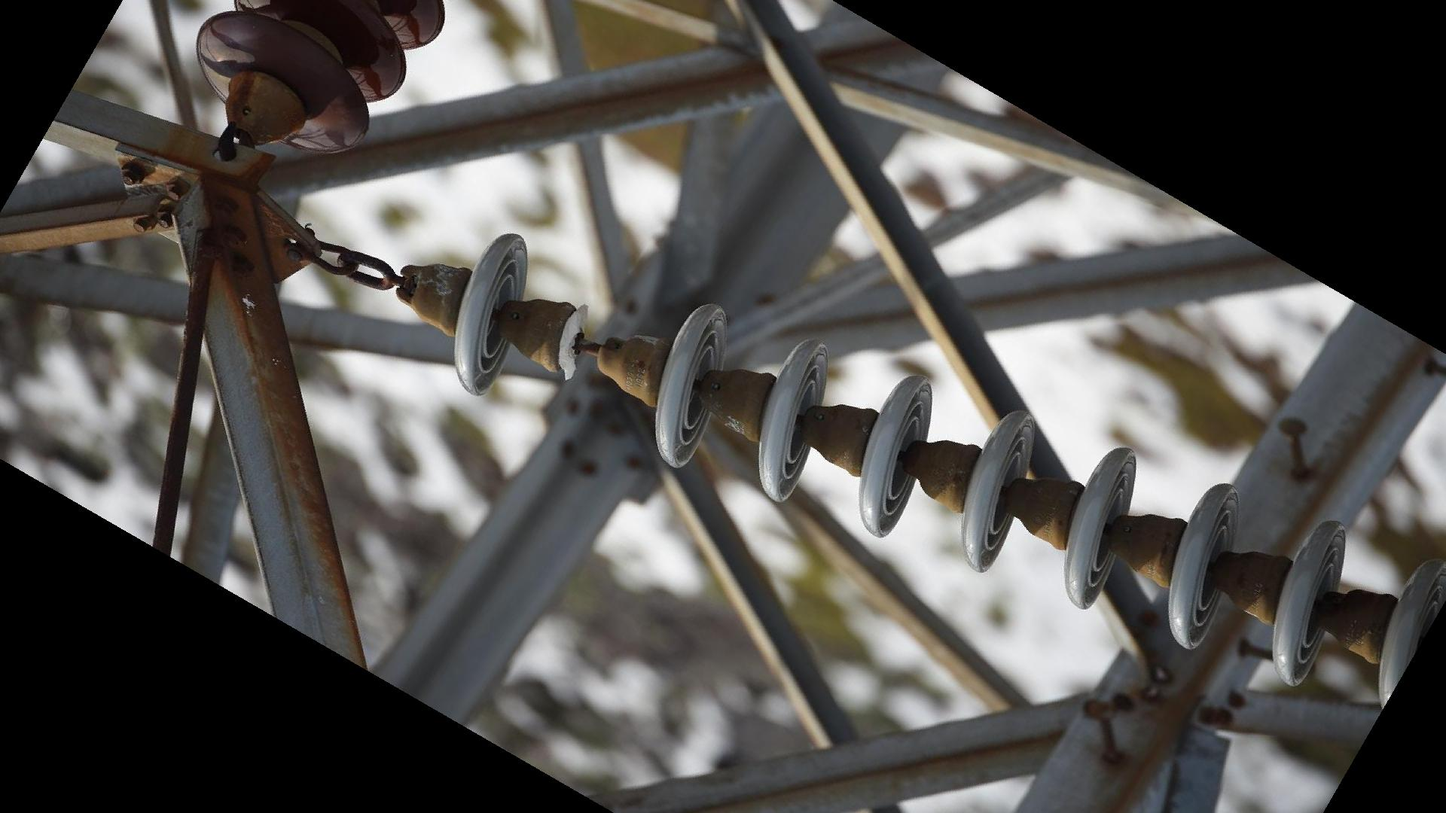insulator: (643, 297, 1446, 719), (191, 1, 454, 165), (443, 225, 535, 403)
